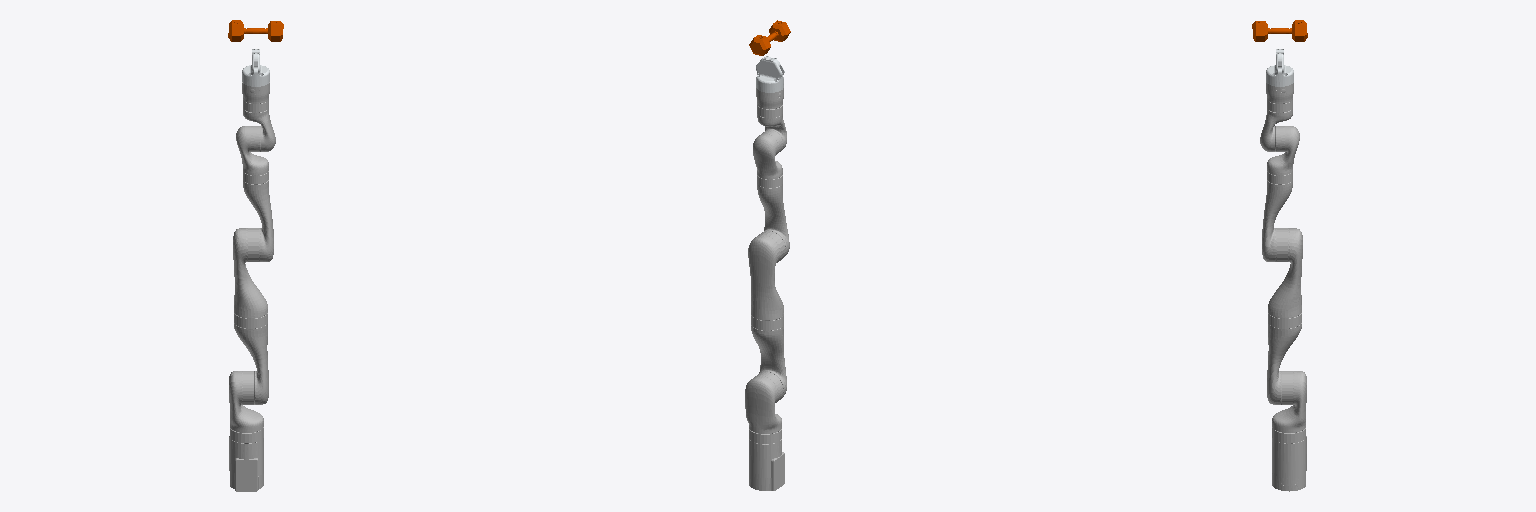
The robot description file, URDF, robot "GEN3_URDF_V12":
<?xml version="1.0" ?>
<robot name="GEN3_URDF_V12" version="1.0">
  <!-- <link name="world">
  </link>
  <joint name="Fix_world" type="fixed">
    <parent link="world" />
    <child link="Base_Link" />
  </joint> -->
  <link name="Base_Link">
    <inertial>
      <origin xyz="-0.000648 -0.000166 0.084487" rpy="0 0 0" />
      <mass value="0" />
      <inertia ixx="0.004622" ixy="9E-06" ixz="6E-05" iyy="0.004495" iyz="9E-06" izz="0.002079" />
    </inertial>
    <visual>
      <origin xyz="0 0 0" rpy="0 0 0" />
      <geometry>
        <mesh filename="meshes/base_link_kinova.obj" />
      </geometry>
      <material name="">
        <color rgba="0.75294 0.75294 0.75294 1" />
      </material>
    </visual>
    <collision>
      <origin xyz="0 0 0" rpy="0 0 0" />
      <geometry>
        <mesh filename="meshes/base_link_kinova.stl" />
      </geometry>
    </collision>
  </link>
  <link name="Shoulder_Link">
    <inertial>
      <origin xyz="-2.3E-05 -0.010364 -0.07336" rpy="0 0 0" />
      <mass value="1.3773" />
      <inertia ixx="0.00457" ixy="1E-06" ixz="2E-06" iyy="0.004831" iyz="0.000448" izz="0.001409" />
    </inertial>
    <visual>
      <origin xyz="0 0 0" rpy="0 0 0" />
      <geometry>
        <mesh filename="meshes/shoulder_link.obj" />
      </geometry>
      <material name="">
        <color rgba="0.75294 0.75294 0.75294 1" />
      </material>
    </visual>
    <collision>
      <origin xyz="0 0 0" rpy="0 0 0" />
      <geometry>
        <mesh filename="meshes/shoulder_link.stl" />
      </geometry>
    </collision>
  </link>
  <joint name="Actuator1" type="continuous">
    <origin xyz="0 0 0.15643" rpy="3.1416 2.7629E-18 -4.9305E-36" />
    <parent link="Base_Link" />
    <child link="Shoulder_Link" />
    <axis xyz="0 0 1" />
    <limit lower="-1000" upper="1000" effort="39" velocity="0.8727" />
  </joint>
  <link name="HalfArm1_Link">
    <inertial>
      <origin xyz="-4.4E-05 -0.09958 -0.013278" rpy="0 0 0" />
      <mass value="1.1636" />
      <inertia ixx="0.011088" ixy="5E-06" ixz="0" iyy="0.001072" iyz="-0.000691" izz="0.011255" />
    </inertial>
    <visual>
      <origin xyz="0 0 0" rpy="0 0 0" />
      <geometry>
        <mesh filename="meshes/half_arm_1_link.obj" />
      </geometry>
      <material name="">
        <color rgba="0.75294 0.75294 0.75294 1" />
      </material>
    </visual>
    <collision>
      <origin xyz="0 0 0" rpy="0 0 0" />
      <geometry>
        <mesh filename="meshes/half_arm_1_link.stl" />
      </geometry>
    </collision>
  </link>
  <joint name="Actuator2" type="revolute">
    <origin xyz="0 0.005375 -0.12838" rpy="1.5708 2.1343E-17 -1.1102E-16" />
    <parent link="Shoulder_Link" />
    <child link="HalfArm1_Link" />
    <axis xyz="0 0 1" />
    <limit lower="-2.41" upper="2.41" effort="39" velocity="0.8727" />
  </joint>
  <link name="HalfArm2_Link">
    <inertial>
      <origin xyz="-4.4E-05 -0.006641 -0.117892" rpy="0 0 0" />
      <mass value="1.1636" />
      <inertia ixx="0.010932" ixy="0" ixz="-7E-06" iyy="0.011127" iyz="0.000606" izz="0.001043" />
    </inertial>
    <visual>
      <origin xyz="0 0 0" rpy="0 0 0" />
      <geometry>
        <mesh filename="meshes/half_arm_2_link.obj" />
      </geometry>
      <material name="">
        <color rgba="0.75294 0.75294 0.75294 1" />
      </material>
    </visual>
    <collision>
      <origin xyz="0 0 0" rpy="0 0 0" />
      <geometry>
        <mesh filename="meshes/half_arm_2_link.stl" />
      </geometry>
    </collision>
  </link>
  <joint name="Actuator3" type="continuous">
    <origin xyz="0 -0.21038 -0.006375" rpy="-1.5708 1.2326E-32 -2.9122E-16" />
    <parent link="HalfArm1_Link" />
    <child link="HalfArm2_Link" />
    <axis xyz="0 0 1" />
    <limit lower="-1000" upper="1000" effort="39" velocity="0.8727" />
  </joint>
  <link name="ForeArm_Link">
    <inertial>
      <origin xyz="-1.8E-05 -0.075478 -0.015006" rpy="0 0 0" />
      <mass value="0.9302" />
      <inertia ixx="0.008147" ixy="-1E-06" ixz="0" iyy="0.000631" iyz="-0.0005" izz="0.008316" />
    </inertial>
    <visual>
      <origin xyz="0 0 0" rpy="0 0 0" />
      <geometry>
        <mesh filename="meshes/forearm_link.obj" />
      </geometry>
      <material name="">
        <color rgba="0.75294 0.75294 0.75294 1" />
      </material>
    </visual>
    <collision>
      <origin xyz="0 0 0" rpy="0 0 0" />
      <geometry>
        <mesh filename="meshes/forearm_link.stl" />
      </geometry>
    </collision>
  </link>
  <joint name="Actuator4" type="revolute">
    <origin xyz="0 0.006375 -0.21038" rpy="1.5708 -6.6954E-17 -1.6653E-16" />
    <parent link="HalfArm2_Link" />
    <child link="ForeArm_Link" />
    <axis xyz="0 0 1" />
    <limit lower="-2.66" upper="2.66" effort="39" velocity="0.8727" />
  </joint>
  <link name="SphericalWrist1_Link">
    <inertial>
      <origin xyz="1E-06 -0.009432 -0.063883" rpy="0 0 0" />
      <mass value="0.6781" />
      <inertia ixx="0.001596" ixy="0" ixz="0" iyy="0.001607" iyz="0.000256" izz="0.000399" />
    </inertial>
    <visual>
      <origin xyz="0 0 0" rpy="0 0 0" />
      <geometry>
        <mesh filename="meshes/spherical_wrist_1_link.obj" />
      </geometry>
      <material name="">
        <color rgba="0.75294 0.75294 0.75294 1" />
      </material>
    </visual>
    <collision>
      <origin xyz="0 0 0" rpy="0 0 0" />
      <geometry>
        <mesh filename="meshes/spherical_wrist_1_link.stl" />
      </geometry>
    </collision>
  </link>
  <joint name="Actuator5" type="continuous">
    <origin xyz="0 -0.20843 -0.006375" rpy="-1.5708 2.2204E-16 -6.373E-17" />
    <parent link="ForeArm_Link" />
    <child link="SphericalWrist1_Link" />
    <axis xyz="0 0 1" />
    <limit lower="-1000" upper="1000" effort="9" velocity="0.8727" />
  </joint>
  <link name="SphericalWrist2_Link">
    <inertial>
      <origin xyz="1E-06 -0.045483 -0.00965" rpy="0 0 0" />
      <mass value="0.6781" />
      <inertia ixx="0.001641" ixy="0" ixz="0" iyy="0.00041" iyz="-0.000278" izz="0.001641" />
    </inertial>
    <visual>
      <origin xyz="0 0 0" rpy="0 0 0" />
      <geometry>
        <mesh filename="meshes/spherical_wrist_2_link.obj" />
      </geometry>
      <material name="">
        <color rgba="0.75294 0.75294 0.75294 1" />
      </material>
    </visual>
    <collision>
      <origin xyz="0 0 0" rpy="0 0 0" />
      <geometry>
        <mesh filename="meshes/spherical_wrist_2_link.stl" />
      </geometry>
    </collision>
  </link>
  <joint name="Actuator6" type="revolute">
    <origin xyz="0 0.00017505 -0.10593" rpy="1.5708 9.2076E-28 -8.2157E-15" />
    <parent link="SphericalWrist1_Link" />
    <child link="SphericalWrist2_Link" />
    <axis xyz="0 0 1" />
    <limit lower="-2.23" upper="2.23" effort="9" velocity="0.8727" />
  </joint>
  <link name="Bracelet_Link">
    <inertial>
      <origin xyz="-0.000281 -0.011402 -0.029798" rpy="0 0 0" />
      <mass value="0.5006" />
      <inertia ixx="0.000587" ixy="3E-06" ixz="3E-06" iyy="0.000369" iyz="0.000118" izz="0.000609" />
    </inertial>
    <visual>
      <origin xyz="0 0 0" rpy="0 0 0" />
      <geometry>
        <mesh filename="meshes/bracelet_no_vision_link.obj" />
      </geometry>
      <material name="">
        <color rgba="0.75294 0.75294 0.75294 1" />
      </material>
    </visual>
    <collision>
      <origin xyz="0 0 0" rpy="0 0 0" />
      <geometry>
        <mesh filename="meshes/bracelet_no_vision_link.stl" />
      </geometry>
    </collision>
  </link>
  <joint name="Actuator7" type="continuous">
    <origin xyz="0 -0.10593 -0.00017505" rpy="-1.5708 -5.5511E-17 9.6396E-17" />
    <parent link="SphericalWrist2_Link" />
    <child link="Bracelet_Link" />
    <axis xyz="0 0 1" />
    <limit lower="-1000" upper="1000" effort="9" velocity="0.8727" />
  </joint>
  <link name="EndEffector_Link" />
  <joint name="EndEffector" type="fixed">
    <origin xyz="0 0 -0.0615250000000001" rpy="3.14159265358979 1.09937075168372E-32 0" />
    <parent link="Bracelet_Link" />
    <child link="EndEffector_Link" />
    <axis xyz="0 0 0" />
  </joint>
  
  <!-- <link name="Camera_Link" />
  <joint name="Camera" type="fixed">
    <origin xyz="0 0.05639 -0.00305" rpy="3.14159265358979 3.14159265358979 0" />
    <parent link="EndEffector_Link" />
    <child  link="Camera_Link" />
  </joint>
  <link name="Camera_Depth_Frame" />
  <joint name="Camera_Depth" type="fixed">
    <origin xyz="0.0275 0.066 -0.00305" rpy="3.14159265358979 3.14159265358979 0" />
    <parent link="EndEffector_Link" />
    <child  link="Camera_Depth_Frame" />
  </joint>
  <link name="Camera_Color_Frame" />
  <joint name="Camera_Color" type="fixed">
    <origin xyz="0 0.05639 -0.00305" rpy="3.14159265358979 3.14159265358979 0" />
    <parent link="EndEffector_Link" />
    <child  link="Camera_Color_Frame" />
  </joint> -->
  <link name="Tool_Frame"/>
  <joint name="Tool" type="fixed">
      <origin xyz="0 0 0.120" rpy="0 0 0" />
      <parent link="EndEffector_Link" />
      <child link="Tool_Frame" />
      <axis xyz="0 0 0" />
  </joint>

<!-- gripper code -->


  <joint name="gripper_base_joint" type="fixed">
    <parent link="Bracelet_Link"/>
    <child link="gripper_base"/>
    <origin rpy="1.5707 0.0 0.0" xyz="0.0 0.0 -0.0615250000000001"/>
    <!-- 1.57 -->
  </joint>

  <link name="gripper_base">
    <inertial>
      <origin rpy="0 0 0" xyz="6.91E-06 4.4117E-06 0.031656"/>
      <mass value="0.60831"/>
      <inertia ixx="0.0004596" ixy="1.5559E-09" ixz="1.397E-07" iyy="0.0005181" iyz="-1.0325E-11" izz="0.00036051"/>
    </inertial>
    <visual>
      <origin rpy="0 0 0" xyz="0 0 0"/>
      <geometry>
        <mesh filename="meshes/base_of_gripper.obj"/>
      </geometry>
      <material name="">
        <color rgba="0.89804 0.91765 0.92941 0.25"/>
      </material>
    </visual>
    <collision>
      <origin rpy="0 0 0" xyz="0 0 0"/>
      <geometry>
        <mesh filename="meshes/base_of_gripper.STL"/>
      </geometry>
    </collision>
  </link>



  <link name="gripper_right_spring_link">
    <inertial>
      <origin rpy="0 0 0" xyz="-9.7222E-12 0.028253 6.791E-10"/>
      <mass value="0.029951"/>
      <inertia ixx="1.5103E-05" ixy="-1.0709E-16" ixz="-2.654E-15" iyy="5.0789E-06" iyz="3.2666E-14" izz="1.0707E-05"/>
    </inertial>
    <visual>
      <origin rpy="0 0 0" xyz="0 0 0"/>
      <geometry>
        <mesh filename="meshes/right_spring_link.STL"/>
      </geometry>
      <material name="">
        <color rgba="0.89804 0.91765 0.92941 1"/>
      </material>
    </visual>
    <collision>
      <origin rpy="0 0 0" xyz="0 0 0"/>
      <geometry>
        <mesh filename="meshes/right_spring_link.STL"/>
      </geometry>
    </collision>
  </link>

  <joint name="gripper_right_spring_link_joint" type="fixed">
    <!-- This is modified -->
    <!-- <origin rpy="3.1416 0 0.6983" xyz="0.0127 -0.061307 0"/> -->
    <origin rpy="3.1416 0 0.392699" xyz="0.0127 -0.061307 0"/>
    <parent link="gripper_base"/>
    <child link="gripper_right_spring_link"/>
    <axis xyz="0 0 1"/>
    <limit effort="0" lower="0" upper="0.7854" velocity="0"/>
  </joint>

  <link name="gripper_left_spring_link">
    <inertial>
      <origin rpy="0 0 0" xyz="-8.05421701555176E-13 0.0282525952540491 7.27854432947014E-10"/>
      <mass value="0.0299513316731757"/>
      <inertia ixx="1.51025275365861E-05" ixy="1.3893966137107E-16" ixz="-5.21047318848845E-15" iyy="5.07891354120236E-06" iyz="3.47379370230503E-14" izz="1.0706817344978E-05"/>
    </inertial>
    <visual>
      <origin rpy="0 0 0" xyz="0 0 0"/>
      <geometry>
        <mesh filename="meshes/left_spring_link.STL"/>
      </geometry>
      <material name="">
        <color rgba="0.898039215686275 0.917647058823529 0.929411764705882 1"/>
      </material>
    </visual>
    <collision>
      <origin rpy="0 0 0" xyz="0 0 0"/>
      <geometry>
        <mesh filename="meshes/left_spring_link.STL"/>
      </geometry>
    </collision>
  </link>

  <joint name="gripper_left_spring_link_joint" type="fixed">
    <!-- This is modified -->
    <!-- <origin rpy="3.1416 0 -0.70092" xyz="-0.0127 -0.061307 0"/> -->
    <origin rpy="3.1416 0 -0.392699" xyz="-0.0127 -0.061307 0"/>
    <parent link="gripper_base"/>
    <child link="gripper_left_spring_link"/>
    <axis xyz="0 0 1"/>
    <limit effort="0" lower="-0.7854" upper="0" velocity="0"/>
  </joint>

  <link name="gripper_right_driver">
    <inertial>
      <origin rpy="0 0 0" xyz="0.0179377478479594 0.000926031753317007 -4.0741034207454E-11"/>
      <mass value="0.0184906489409923"/>
      <inertia ixx="6.79440339903172E-07" ixy="-2.0728790158877E-07" ixz="5.46290681974064E-15" iyy="3.45929623837714E-06" iyz="7.55029433009734E-15" izz="3.75009298146153E-06"/>
    </inertial>
    <visual>
      <origin rpy="0 0 0" xyz="0 0 0"/>
      <geometry>
        <mesh filename="meshes/right_driver.STL"/>
      </geometry>
      <material name="">
        <color rgba="0.898039215686275 0.917647058823529 0.929411764705882 1"/>
      </material>
    </visual>
    <collision>
      <origin rpy="0 0 0" xyz="0 0 0"/>
      <geometry>
        <mesh filename="meshes/right_driver.STL"/>
      </geometry>
    </collision>
  </link>

  <joint name="gripper_right_driver_joint" type="fixed">
    <!-- This is modified -->
    <!-- <origin rpy="3.1416 0 -0.019735" xyz="0.030601 -0.054792 0"/> -->
    <origin rpy="3.1416 0 -1.5" xyz="0.030601 -0.054792 0"/>
    <parent link="gripper_base"/>
    <child link="gripper_right_driver"/>
    <axis xyz="0 0 1"/>
    <limit effort="150" lower="-3.1416" upper="3.1416" velocity="0"/>
  </joint>

  <link name="gripper_right_coupler">
    <inertial>
      <origin rpy="0 0 0" xyz="-0.00277693278884095 0.0214010778170948 -2.64117771736162E-15"/>
      <mass value="0.0273093985570947"/>
      <inertia ixx="8.4351877262463E-06" ixy="8.05599897942411E-07" ixz="3.98563616297657E-19" iyy="2.33117687880373E-06" iyz="-6.91949626399278E-19" izz="6.9133328065108E-06"/>
    </inertial>
    <visual>
      <origin rpy="0 0 0" xyz="0 0 0"/>
      <geometry>
        <mesh filename="meshes/right_coupler.STL"/>
      </geometry>
      <material name="">
        <color rgba="0.898039215686275 0.917647058823529 0.929411764705882 1"/>
      </material>
    </visual>
    <collision>
      <origin rpy="0 0 0" xyz="0 0 0"/>
      <geometry>
        <mesh filename="meshes/right_coupler.STL"/>
      </geometry>
    </collision>
  </link>

  <joint name="gripper_right_coupler_joint" type="fixed">
    <!-- This is modified  -->
    <!-- <origin rpy="0 0 -0.25804" xyz="0.031486 -0.0040855 0"/> -->
    <origin rpy="0 0 -1.53" xyz="0.031486 -0.0040855 0"/>
    <parent link="gripper_right_driver"/>
    <child link="gripper_right_coupler"/>
    <axis xyz="0 0 -1"/>
    <limit effort="0" lower="0.13" upper="0.79" velocity="0"/>
  </joint>

  <link name="gripper_right_follower">
    <inertial>
      <origin rpy="0 0 0" xyz="0.0118738800643238 0.013213950103123 -6.42371679073841E-16"/>
      <mass value="0.0195548943464751"/>
      <inertia ixx="3.99125345460037E-06" ixy="-9.32228708142781E-07" ixz="-1.06756339811242E-18" iyy="1.28831055431048E-06" iyz="-9.53069862405573E-19" izz="4.59174098263665E-06"/>
    </inertial>
    <visual>
      <origin rpy="0 0 0" xyz="0 0 0"/>
      <geometry>
        <mesh filename="meshes/right_follower.STL"/>
      </geometry>
      <material name="">
        <color rgba="0.898039215686275 0.917647058823529 0.929411764705882 1"/>
      </material>
    </visual>
    <collision>
      <origin rpy="0 0 0" xyz="0 0 0"/>
      <geometry>
        <mesh filename="meshes/right_follower.STL"/>
      </geometry>
    </collision>
  </link>

  <joint name="gripper_right_follower_joint" type="fixed">
    <!-- This is modified -->
    <!-- <origin rpy="3.1416 0 -2.9033" xyz="-0.0061148 0.047125 0"/> -->
    <origin rpy="3.1416 0 3.1416" xyz="-0.0061148 0.047125 0"/>
    <parent link="gripper_right_coupler"/>
    <child link="gripper_right_follower"/>
    <axis xyz="0 0 1"/>
    <limit effort="0" lower="-3.1416" upper="3.1416" velocity="0"/>
  </joint>

  <link name="gripper_right_pad">
    <inertial>
      <origin rpy="0 0 0" xyz="0.000197179990555962 0.003 -5.73415880070697E-15"/>
      <mass value="0.0112846745192962"/>
      <inertia ixx="4.84198905594698E-07" ixy="1.17467826101044E-22" ixz="-2.69493952498347E-22" iyy="1.75287448520128E-06" iyz="3.01393554780919E-23" izz="1.33638362672235E-06"/>
    </inertial>
    <visual>
      <origin rpy="0 0 0" xyz="0 0 0"/>
      <geometry>
        <mesh filename="meshes/right_pad.STL"/>
      </geometry>
      <material name="">
        <color rgba="0.529411764705882 0.549019607843137 0.549019607843137 1"/>
      </material>
    </visual>
    <collision>
      <origin rpy="0 0 0" xyz="0 0 0"/>
      <geometry>
        <mesh filename="meshes/right_pad.STL"/>
      </geometry>
    </collision>
  </link>

  <joint name="gripper_right_pad_joint" type="fixed">
    <origin rpy="3.1416 0 -1.5708" xyz="0.024903 0.032264 0"/>
    <parent link="gripper_right_follower"/>
    <child link="gripper_right_pad"/>
    <axis xyz="0 0 0"/>
  </joint>

  <link name="gripper_left_driver">
    <inertial>
      <origin rpy="0 0 0" xyz="0.0179377478480944 0.000926031754016808 -4.09476305946672E-11"/>
      <mass value="0.0184906489414316"/>
      <inertia ixx="6.79440340033055E-07" ixy="-2.07287901659297E-07" ixz="5.48822371152932E-15" iyy="3.45929623843939E-06" iyz="7.56200742857023E-15" izz="3.75009298156646E-06"/>
    </inertial>
    <visual>
      <origin rpy="0 0 0" xyz="0 0 0"/>
      <geometry>
        <mesh filename="meshes/left_driver.STL"/>
      </geometry>
      <material name="">
        <color rgba="0.898039215686275 0.917647058823529 0.929411764705882 1"/>
      </material>
    </visual>
    <collision>
      <origin rpy="0 0 0" xyz="0 0 0"/>
      <geometry>
        <mesh filename="meshes/left_driver.STL"/>
      </geometry>
    </collision>
  </link>

  <joint name="gripper_left_driver_joint" type="fixed">
    <!-- This is modified -->
    <!-- <origin rpy="0 0 -3.1245" xyz="-0.030601 -0.054792 0"/> -->
    <origin rpy="0 0 -1.5" xyz="-0.030601 -0.054792 0"/>
    <parent link="gripper_base"/>
    <child link="gripper_left_driver"/>
    <axis xyz="0 0 1"/>
    <limit effort="150" lower="-3.1416" upper="3.1416" velocity="0"/>
  </joint>

  <link name="gripper_left_coupler">
    <inertial>
      <origin rpy="0 0 0" xyz="-0.00277693278884093 0.0214010778170948 -2.65696393157366E-15"/>
      <mass value="0.0273093985570947"/>
      <inertia ixx="8.43518772624629E-06" ixy="8.05599897942414E-07" ixz="3.98028057558574E-19" iyy="2.33117687880373E-06" iyz="-6.91715450328278E-19" izz="6.9133328065108E-06"/>
    </inertial>
    <visual>
      <origin rpy="0 0 0" xyz="0 0 0"/>
      <geometry>
        <mesh filename="meshes/left_coupler.STL"/>
      </geometry>
      <material name="">
        <color rgba="0.898039215686275 0.917647058823529 0.929411764705882 1"/>
      </material>
    </visual>
    <collision>
      <origin rpy="0 0 0" xyz="0 0 0"/>
      <geometry>
        <mesh filename="meshes/left_coupler.STL"/>
      </geometry>
    </collision>
  </link>

  <joint name="gripper_left_coupler_joint" type="fixed">
    <!-- This is modified -->
    <!-- <origin rpy="3.1416 0 -3.1416" xyz="0.031486 -0.0040855 0"/> -->
    <origin rpy="3.1416 0 1.56" xyz="0.031486 -0.0040855 0"/>
    <parent link="gripper_left_driver"/>
    <child link="gripper_left_coupler"/>
    <axis xyz="0 0 1"/>
    <limit effort="0" lower="0.13" upper="0.79" velocity="0"/>
  </joint>

  <link name="gripper_left_follower">
    <inertial>
      <origin rpy="0 0 0" xyz="0.0118738800643238 0.013213950103123 2.13813023929037E-15"/>
      <mass value="0.0195548943464751"/>
      <inertia ixx="3.99125345460038E-06" ixy="-9.32228708142783E-07" ixz="-1.06843707618223E-18" iyy="1.28831055431048E-06" iyz="-9.54631781105362E-19" izz="4.59174098263666E-06"/>
    </inertial>
    <visual>
      <origin rpy="0 0 0" xyz="0 0 0"/>
      <geometry>
        <mesh filename="meshes/left_follower.STL"/>
      </geometry>
      <material name="">
        <color rgba="0.898039215686275 0.917647058823529 0.929411764705882 1"/>
      </material>
    </visual>
    <collision>
      <origin rpy="0 0 0" xyz="0 0 0"/>
      <geometry>
        <mesh filename="meshes/left_follower.STL"/>
      </geometry>
    </collision>
  </link>

  <joint name="gripper_left_follower_joint" type="fixed">
    <!-- This is modified -->
    <!-- <origin rpy="0 0 0.017192" xyz="-0.0061148 0.047125 0"/> -->
    <origin rpy="0 0 0" xyz="-0.0061148 0.047125 0"/>
    <parent link="gripper_left_coupler"/>
    <child link="gripper_left_follower"/>
    <axis xyz="0 0 1"/>
    <limit effort="0" lower="-3.1416" upper="3.1416" velocity="0"/>
  </joint>

  <link name="gripper_left_pad">
    <inertial>
      <origin rpy="0 0 0" xyz="0.00019717999055599 0.003 8.49842392779646E-15"/>
      <mass value="0.0112846745192961"/>
      <inertia ixx="4.84198905594697E-07" ixy="7.66025016740815E-22" ixz="4.8234593310579E-23" iyy="1.75287448520127E-06" iyz="-9.35905899337494E-24" izz="1.33638362672235E-06"/>
    </inertial>
    <visual>
      <origin rpy="0 0 0" xyz="0 0 0"/>
      <geometry>
        <mesh filename="meshes/left_pad.STL"/>
      </geometry>
      <material name="">
        <color rgba="0.529411764705882 0.549019607843137 0.549019607843137 1"/>
      </material>
    </visual>
    <collision>
      <origin rpy="0 0 0" xyz="0 0 0"/>
      <geometry>
        <mesh filename="meshes/left_pad.STL"/>
      </geometry>
    </collision>
  </link>

  <joint name="gripper_left_pad_joint" type="fixed">
    <origin rpy="0 0 -1.5708" xyz="0.018903 0.032265 0"/>
    <parent link="gripper_left_follower"/>
    <child link="gripper_left_pad"/>
    <axis xyz="0 0 0"/>
  </joint>



  <!-- tray and cube code -->

  <joint name="dumbbell_joint" type="fixed">
    <origin xyz="0 0 0.150" rpy="1.571 0 0" />
    <parent link="EndEffector_Link" />
    <child link="dumbbell_link" />
  </joint>
  <!-- <link name="dumbbell" />

  <joint name="dumbbell_rotation" type="fixed">
    <origin xyz="0 0 0" rpy="1.571 0 0" />
    <parent link="dumbbell_link" />
    <child link="dumbbell_after_rotation" />
  </joint> -->

  <link name="dumbbell_link">
    <inertial>
      <origin rpy="0 0 0" xyz="0 0 0" />
      <!-- <mass value="6.8" /> -->
      <mass value="0.9" />
      <!-- [author] just made up these values! -->
      <!-- <inertia ixx="0.01" ixy="0" ixz="0" iyy="0.01" iyz="0" izz="0.005" /> -->
      <!-- values generated by SolidWorks -->
      <inertia ixx="0.00257733" ixy="0.0" ixz="0.0" iyy="0.00258121" iyz="0.0" izz="0.00026" />
    </inertial>
    <visual>
      <!-- <origin rpy="0 1.5708 0" xyz="-0.05 -0.075 0.15"/> -->
      <origin rpy="0 0 0" xyz="0 0 0"/>
      <geometry>
        <mesh filename="meshes/BlackDumbbell_assem_scaled.stl" scale="0.5 0.5 0.5"/>
      </geometry>
      <collision>
        <!-- <origin rpy="0 1.5708 0" xyz="-0.05 -0.075 0.15"/> -->
        <origin rpy="0 0 0" xyz="0 0 0"/>
        <geometry>
            <mesh filename="meshes/BlackDumbbell_assem_scaled.stl" scale="0.5 0.5 0.5"/>
        </geometry>
        </collision>
      <!-- <material name="">
        <color rgba="0 0 0 1" />
      </material> -->
    </visual>
  </link>

</robot>

--- Facts derived from the render (not from the file) ---
3 views of the same robot in one strip: view 1: azimuth 90°, elevation 25°; view 2: azimuth 150°, elevation 25°; view 3: azimuth 270°, elevation 25° (orthographic).
Model GEN3_URDF_V12 with 22 links and 21 joints (3 revolute, 4 continuous, 14 fixed), rooted at Base_Link, posed all joints at 0.
Links seen in each view (by area): view 1: HalfArm2_Link, Base_Link, HalfArm1_Link, Shoulder_Link, ForeArm_Link, SphericalWrist1_Link, SphericalWrist2_Link, dumbbell_link, gripper_base; view 2: HalfArm2_Link, Base_Link, Shoulder_Link, HalfArm1_Link, ForeArm_Link, SphericalWrist1_Link, gripper_base, dumbbell_link, SphericalWrist2_Link; view 3: HalfArm2_Link, Base_Link, HalfArm1_Link, Shoulder_Link, ForeArm_Link, SphericalWrist1_Link, SphericalWrist2_Link, dumbbell_link, gripper_base.
Boxes of the visible links, x1,y1,x2,y2 form: HalfArm2_Link: (233,228,267,318); Base_Link: (229,427,263,491); HalfArm1_Link: (234,313,268,404); Shoulder_Link: (229,371,263,432); ForeArm_Link: (243,171,273,261); SphericalWrist1_Link: (236,126,268,175); SphericalWrist2_Link: (243,100,275,151); dumbbell_link: (228,20,283,41); gripper_base: (242,49,269,86); HalfArm2_Link: (748,231,785,320); Base_Link: (749,429,784,490); Shoulder_Link: (745,372,783,433); HalfArm1_Link: (751,315,786,399); ForeArm_Link: (757,175,789,256); SphericalWrist1_Link: (753,130,782,179); gripper_base: (756,56,784,92); dumbbell_link: (749,20,790,55); SphericalWrist2_Link: (757,105,786,150); HalfArm2_Link: (1268,228,1302,318); Base_Link: (1272,427,1306,491); HalfArm1_Link: (1267,313,1301,404); Shoulder_Link: (1272,371,1306,432); ForeArm_Link: (1262,171,1292,261); SphericalWrist1_Link: (1267,126,1299,175); SphericalWrist2_Link: (1260,100,1292,151); dumbbell_link: (1252,20,1307,41); gripper_base: (1266,49,1293,86).
Size in the robot's own frame: 0.0928 by 0.1472 by 1.36 metres.
Meshes: 20 distinct files referenced, 10 mesh visuals loaded (1 binary STL, 9 OBJ); not drawn: 10 (reference not matched to a file when rendering).